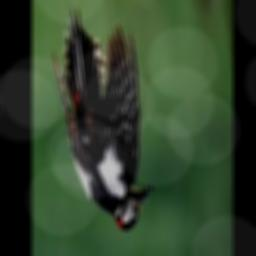Woodpecker: (53, 5, 154, 232)
